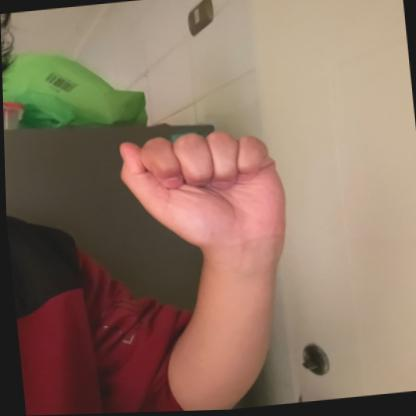A: (106, 121, 299, 259)
